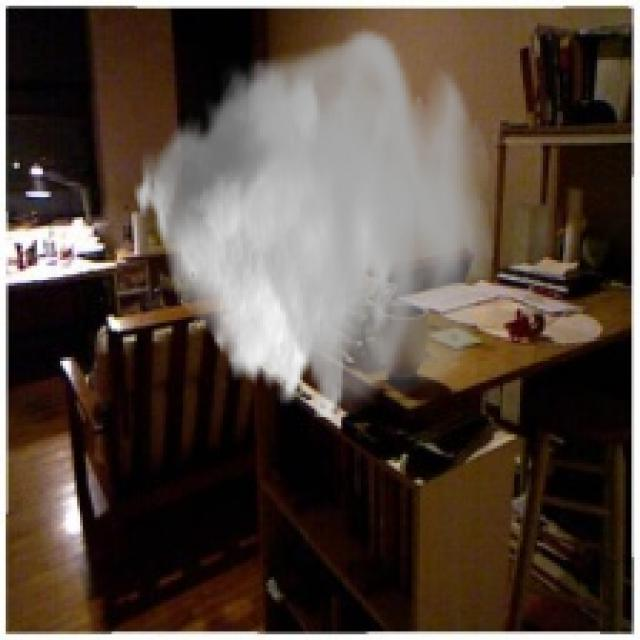smoke: (132, 23, 494, 417)
